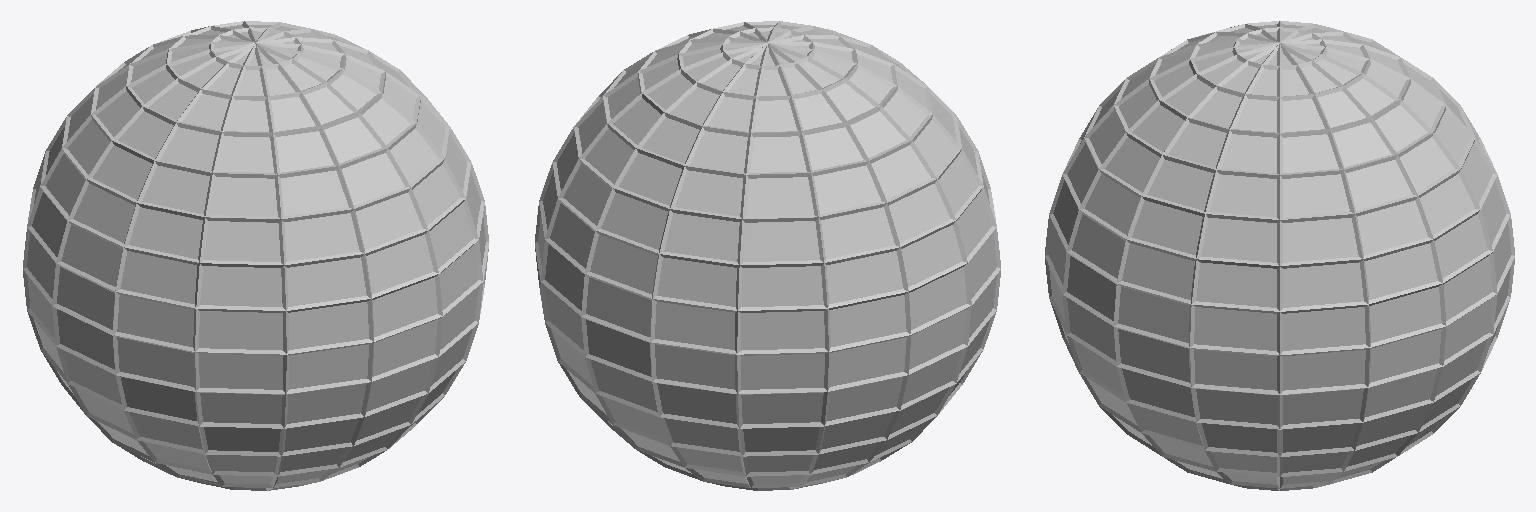
File: suiza.obj
The picture shows the model from 3 angles: view 1: azimuth 30°, elevation 25°; view 2: azimuth 150°, elevation 25°; view 3: azimuth 270°, elevation 25°; orthographic projection.
Parts seen in each view (by area): view 1: webtrcc:Mesh; view 2: webtrcc:Mesh; view 3: webtrcc:Mesh.
Boxes of the visible parts, <box> form: webtrcc:Mesh: <box>23,21,488,490</box>; webtrcc:Mesh: <box>535,21,1000,490</box>; webtrcc:Mesh: <box>1045,21,1514,490</box>.
Size of the model in its own units: 2.03 by 2.03 by 2.03.